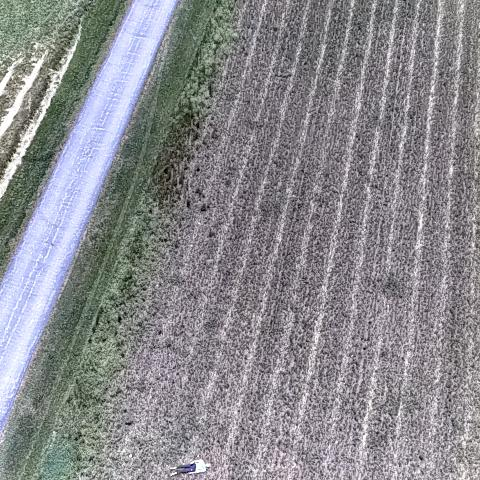person: (164, 452, 212, 478)
